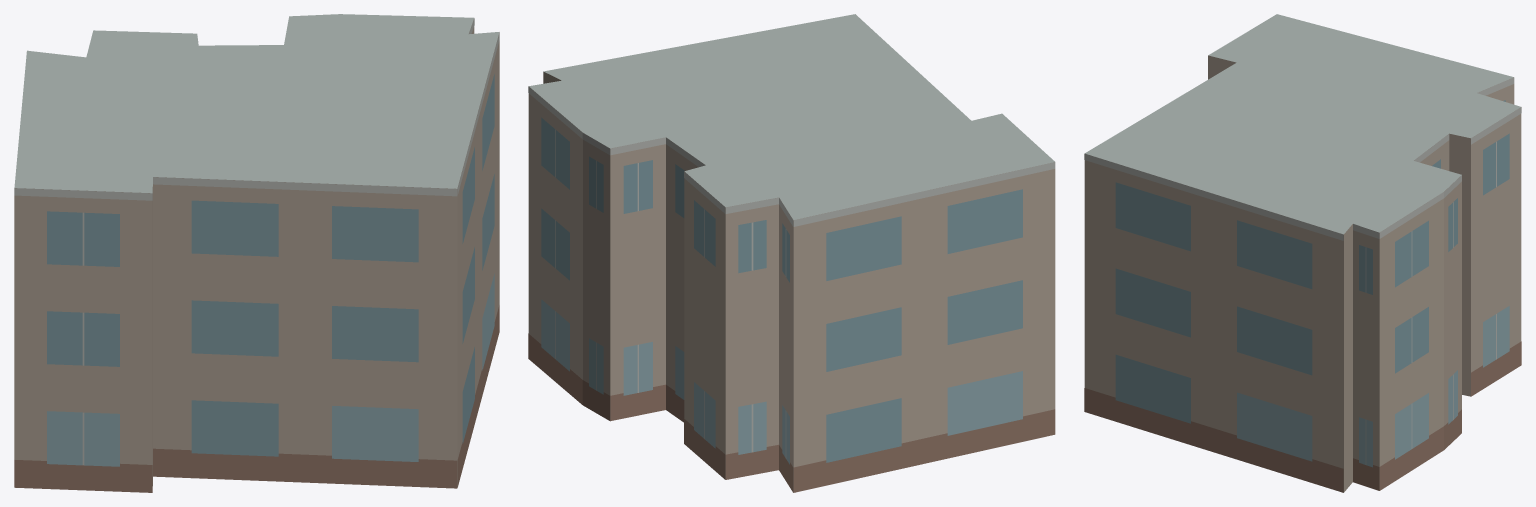
File: survey-upis-32977546.glb
3 views of the same model, side by side, from view 1: azimuth 30°, elevation 25°; view 2: azimuth 150°, elevation 25°; view 3: azimuth 270°, elevation 25° (orthographic). The views are drawn at different scales.
Parts seen in each view (by area): view 1: survey-upis-32977546.tmp; view 2: survey-upis-32977546.tmp; view 3: survey-upis-32977546.tmp.
Part boxes in pixels (box(x1,y1,x2,y2)): survey-upis-32977546.tmp: box(14, 14, 499, 492); survey-upis-32977546.tmp: box(528, 14, 1055, 492); survey-upis-32977546.tmp: box(1084, 14, 1521, 492).
Bounding box in the file's own units: 17.76 × 9.7 × 14.87.
